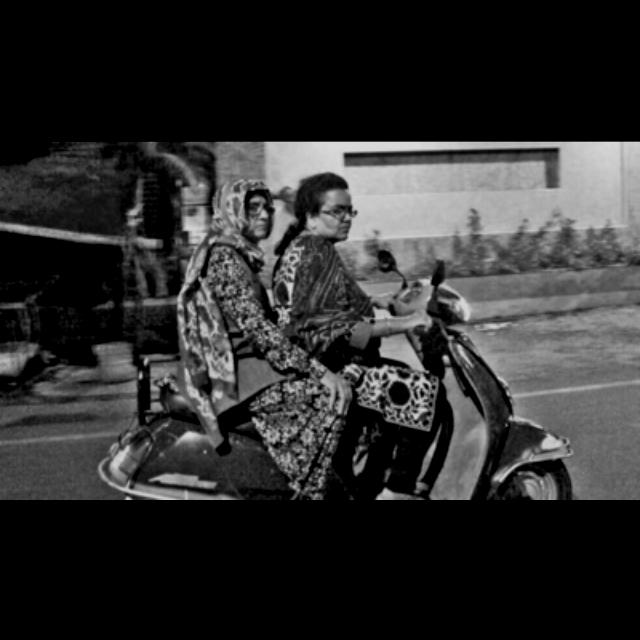Without Helmet: (291, 172, 361, 246)
